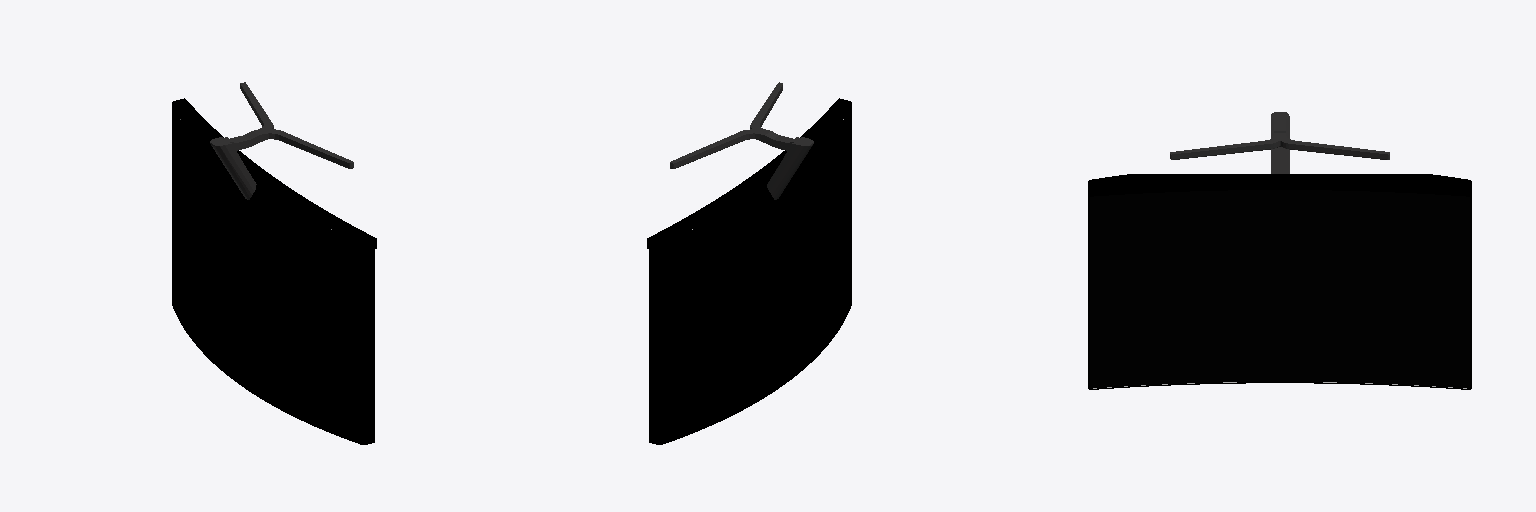
Rendered from monitor.obj.
3 views of the same model, side by side, from view 1: azimuth 30°, elevation 25°; view 2: azimuth 150°, elevation 25°; view 3: azimuth 270°, elevation 25° (orthographic).
Parts seen in each view (by area): view 1: Monitor_27'_Curved; view 2: Monitor_27'_Curved; view 3: Monitor_27'_Curved.
Part boxes in pixels (x1,y1,x2,y2): Monitor_27'_Curved: (172, 82, 376, 444); Monitor_27'_Curved: (647, 82, 851, 444); Monitor_27'_Curved: (1088, 112, 1471, 389).
Bounding box in the file's own units: 0.4205 × 1.12 × 1.59.